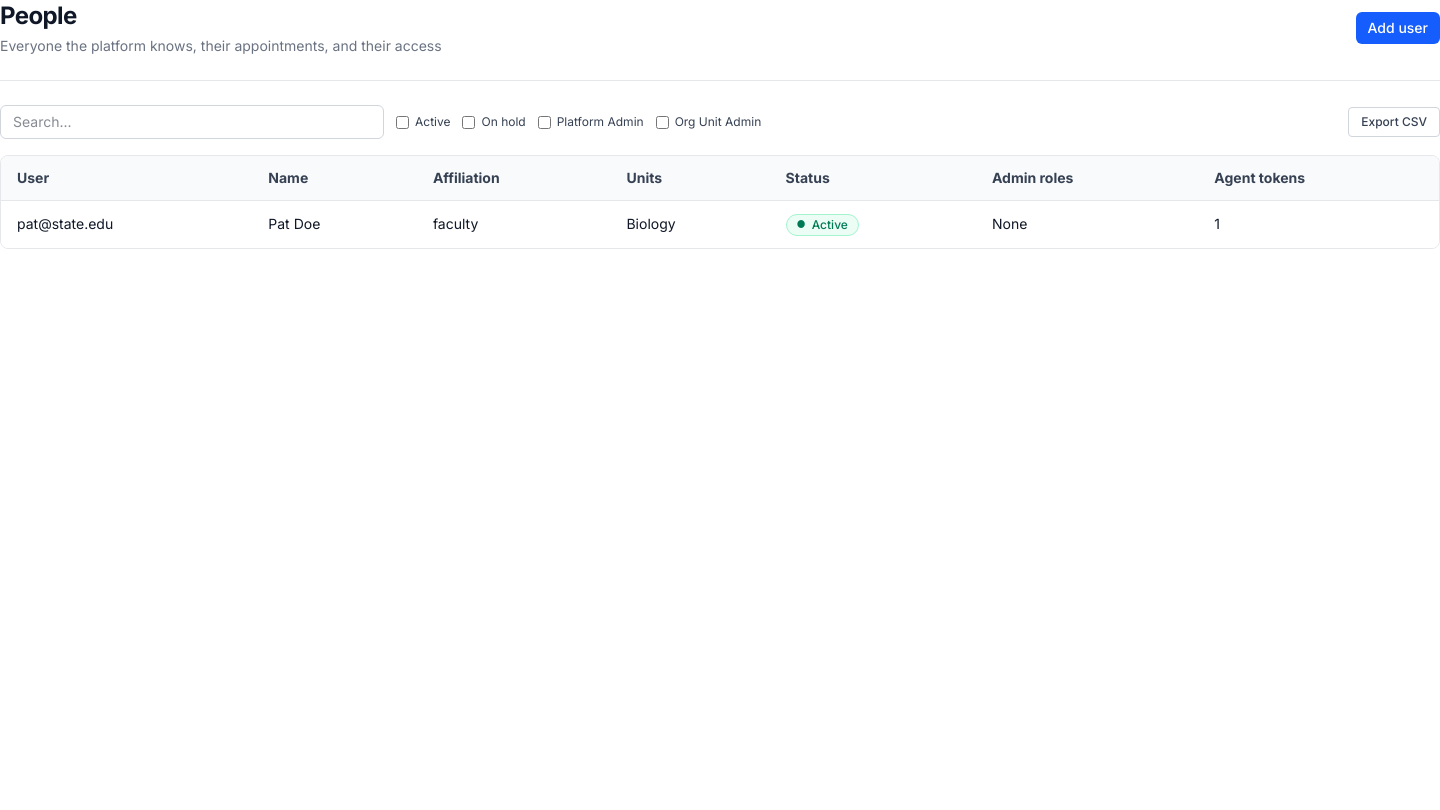
Admin People › the detail drawer shows tokens and appointments
Click the text "pat@state.edu" at (65, 224), box [1,200,252,248]
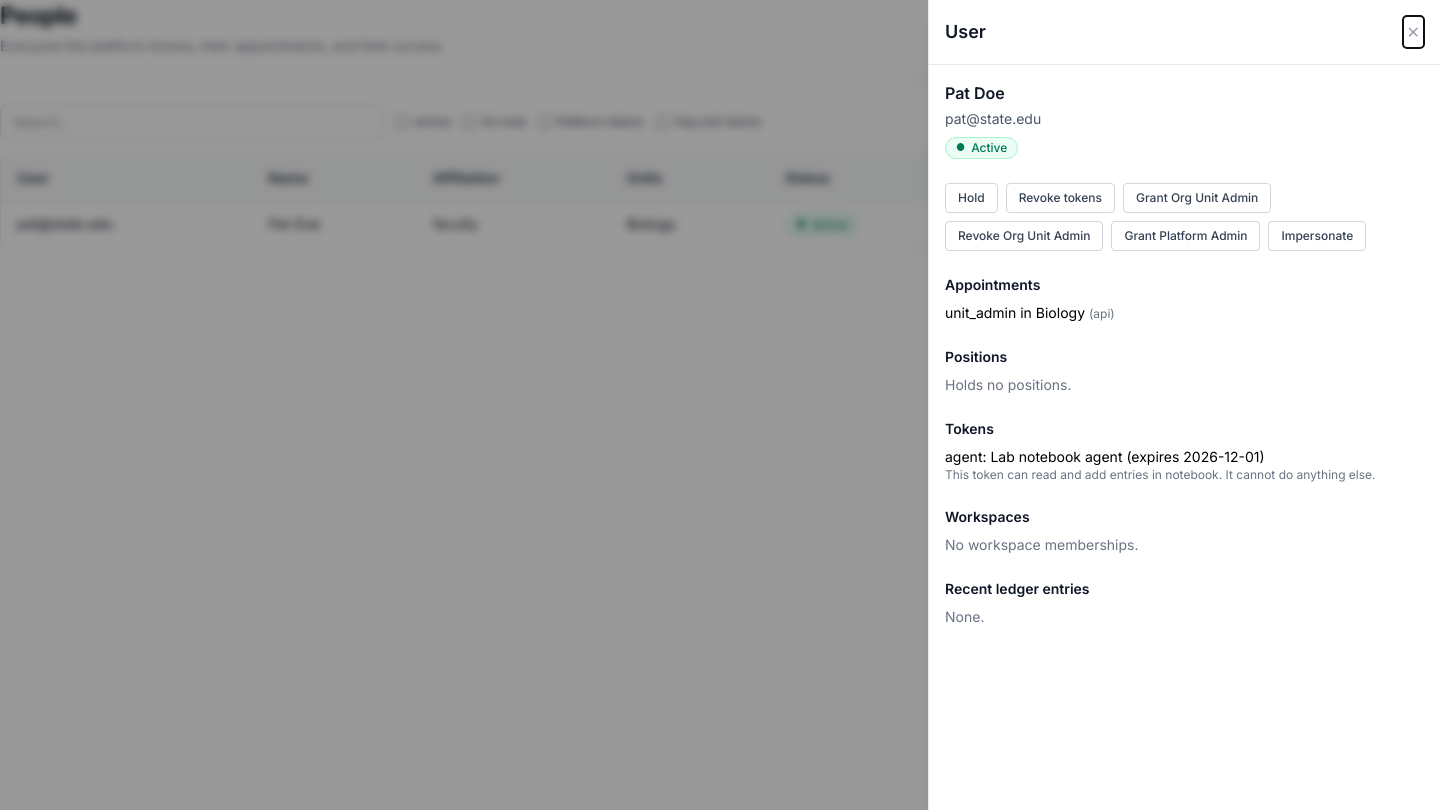
Expected: the list with test id "admin-user-tokens" shows "Lab notebook agent", [990,448,1122,465]
Expected: the list with test id "admin-user-tokens" shows "This token can read and add entries in notebook. It cannot do anything else.", [945,467,1376,482]
Expected: the list with test id "admin-user-appointments" shows "unit_admin in Biology", [945,304,1115,321]
